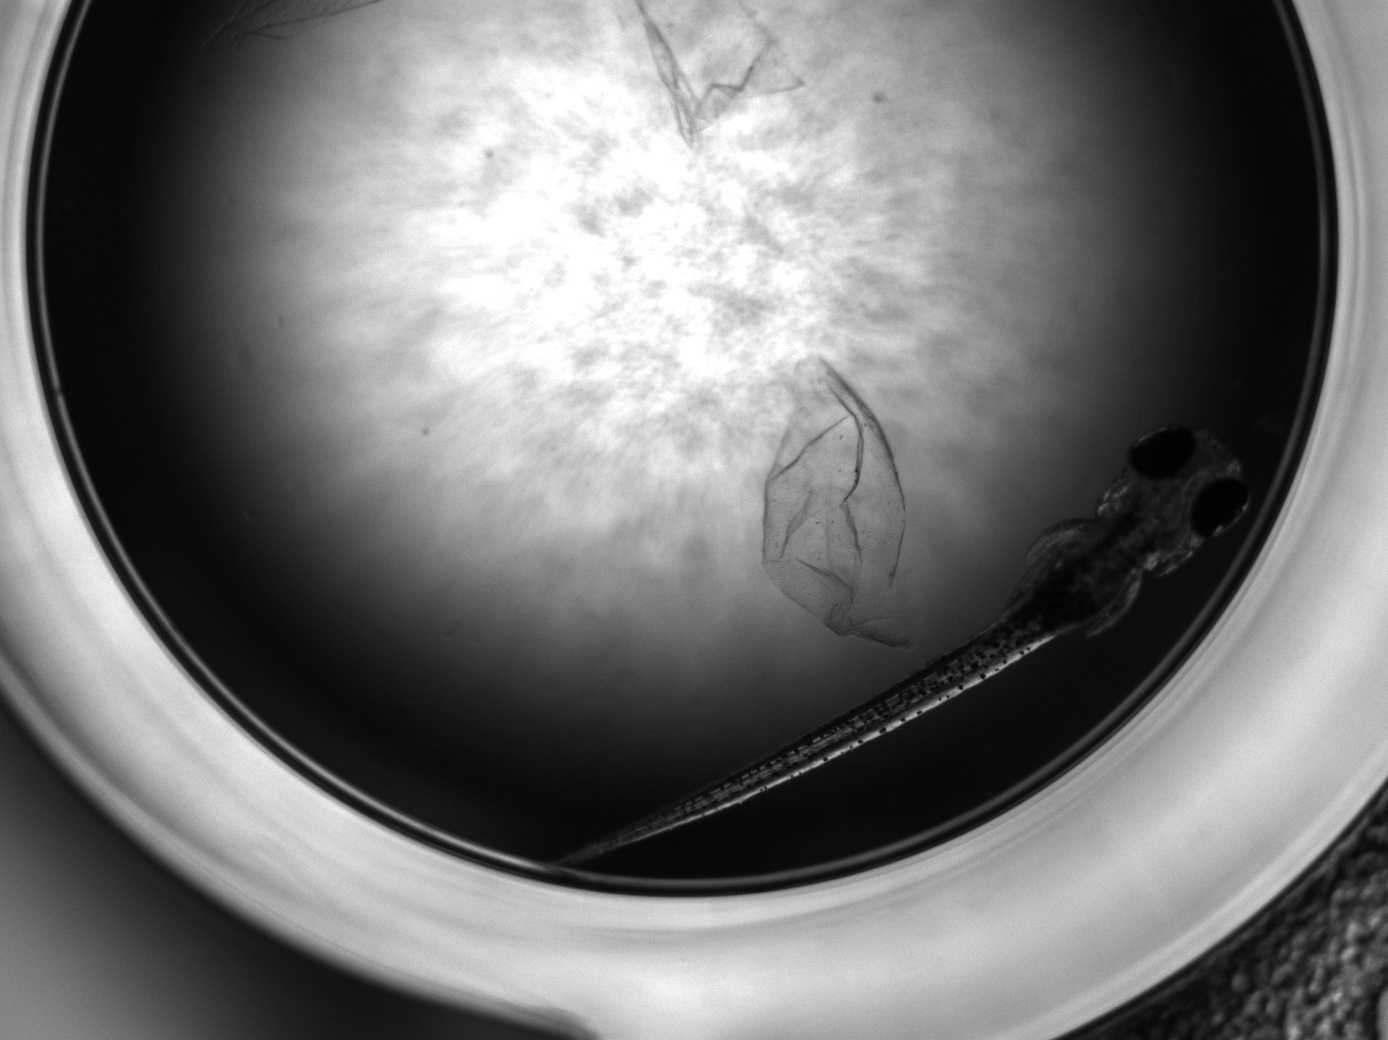debris: (743, 352, 927, 653), (634, 1, 809, 149)
embryo: (546, 422, 1253, 867)
eye: (1190, 474, 1251, 542), (1126, 424, 1196, 481)
yolksac: (995, 520, 1138, 650)
